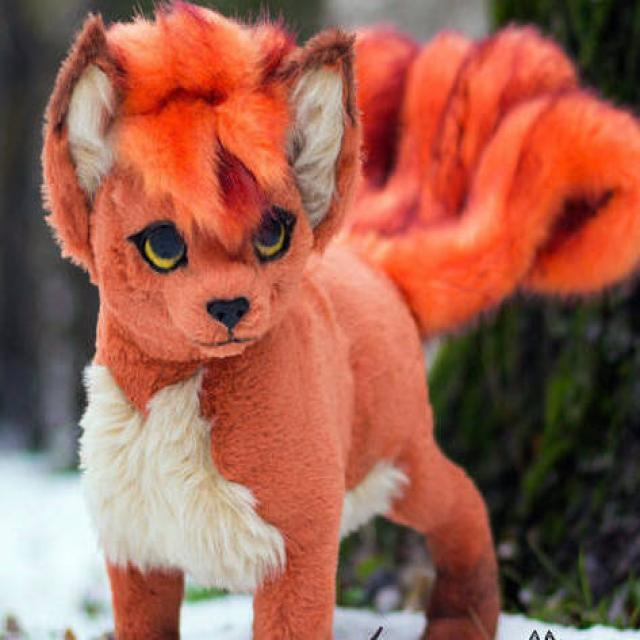Vulpix: (33, 23, 508, 640)
